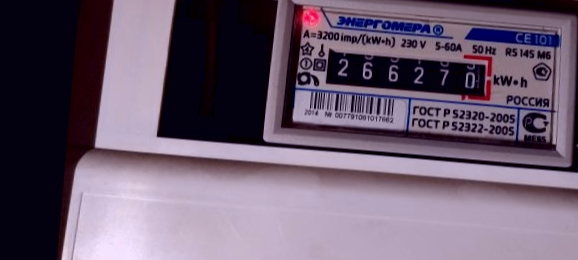0: (462, 70, 477, 91)
2: (335, 57, 350, 79), (412, 65, 427, 86)
6: (360, 60, 374, 82), (386, 63, 401, 83)
7: (438, 68, 449, 87)
screen: (313, 38, 500, 109)
